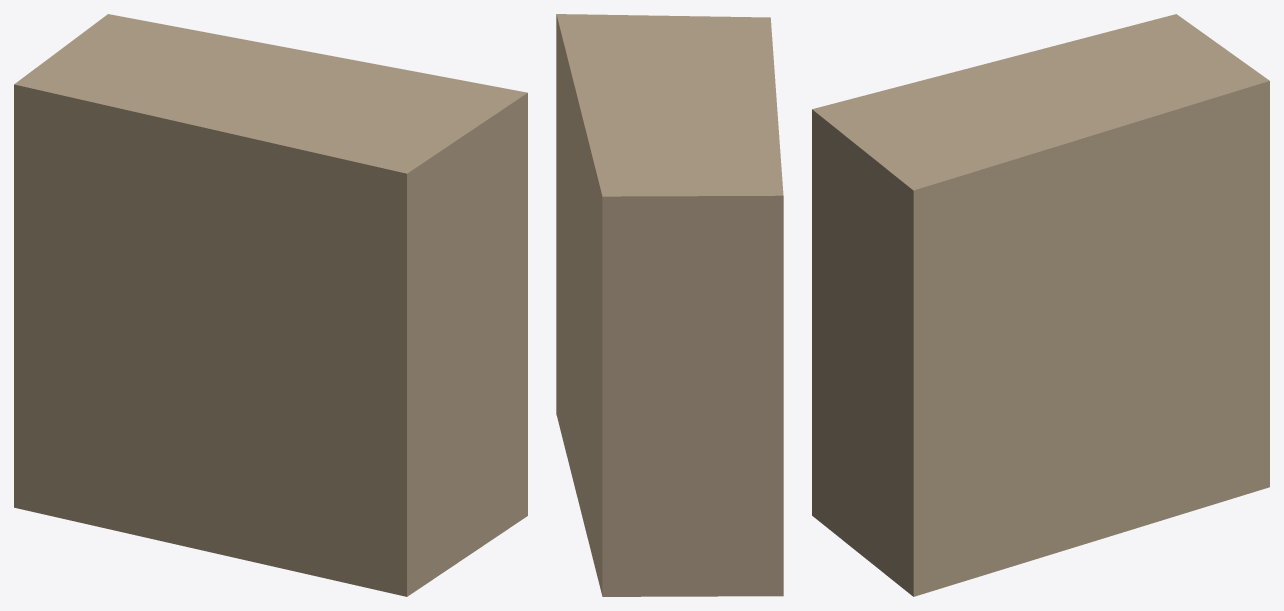
File: bld_99003272.dae
3 views of the same model, side by side, from view 1: azimuth 30°, elevation 25°; view 2: azimuth 150°, elevation 25°; view 3: azimuth 270°, elevation 25° (orthographic). The views are drawn at different scales.
Visible parts, largest first — view 1: Super Natural; view 2: Super Natural; view 3: Super Natural.
Boxes of the visible parts, x1,y1,x2,y2 form: Super Natural: (14, 14, 527, 596); Super Natural: (556, 14, 783, 596); Super Natural: (812, 14, 1269, 596).
Bounding box in the file's own units: 7.45 × 8.17 × 8.
